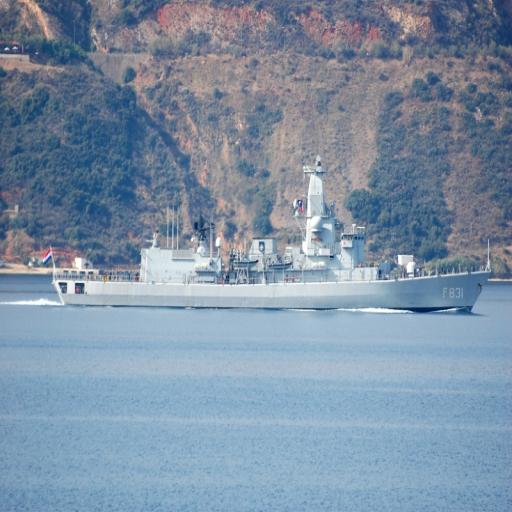Fragata: (50, 157, 496, 314)
